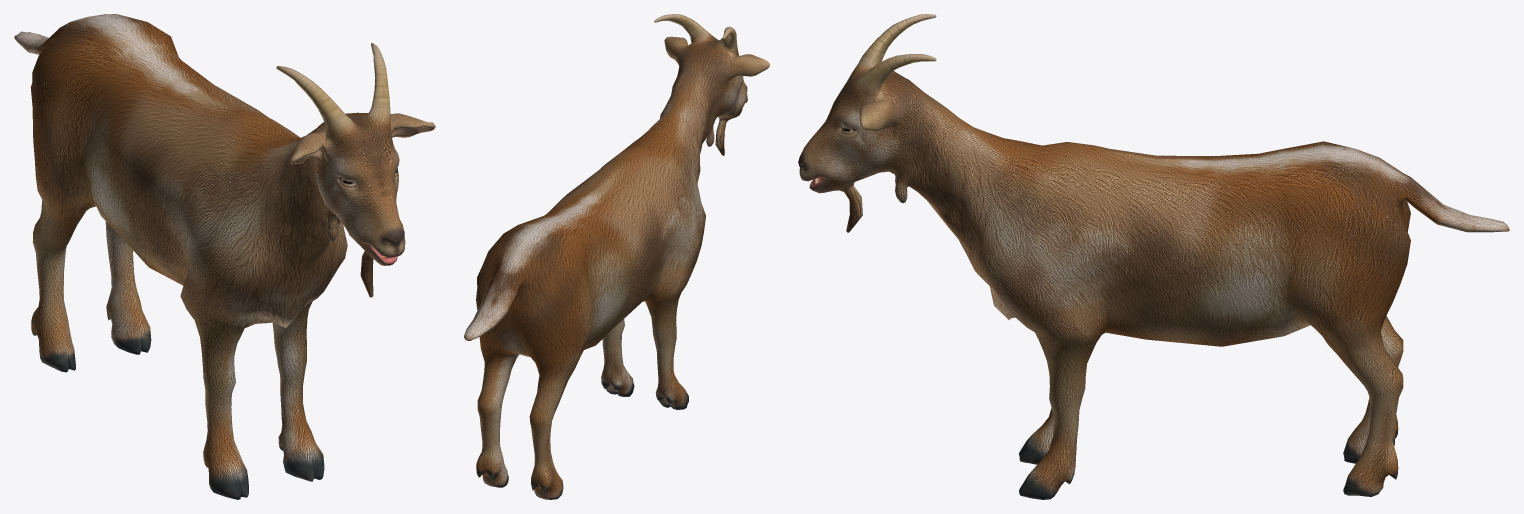
File: goat.glb
3 renders of one model, left to right at view 1: azimuth 30°, elevation 25°; view 2: azimuth 150°, elevation 25°; view 3: azimuth 270°, elevation 25°, orthographic. The views are drawn at different scales.
Visible parts, largest first — view 1: AnimalMesh; view 2: AnimalMesh; view 3: AnimalMesh.
Part boxes in pixels (left/top/right/bottom): AnimalMesh: left=14, top=14, right=435, bottom=499; AnimalMesh: left=464, top=14, right=769, bottom=499; AnimalMesh: left=798, top=14, right=1509, bottom=499.
Size of the model in its own units: 132 by 412 by 600.
Materials: 1 (1 with a texture image).
